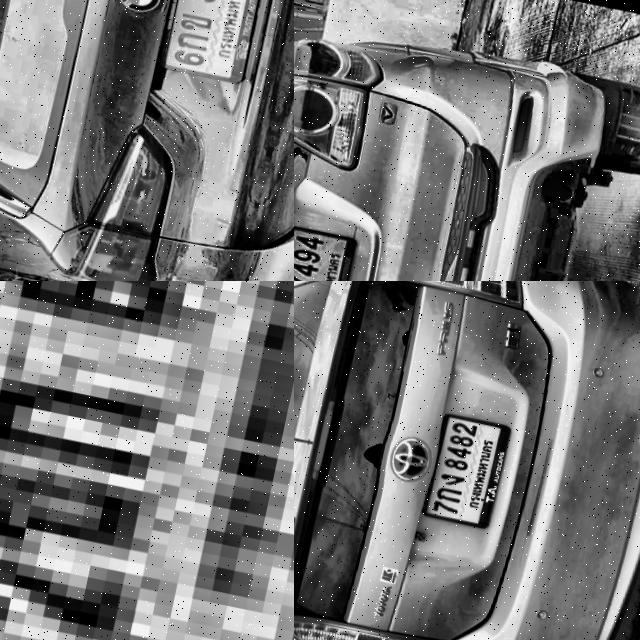license-plate: (0, 281, 294, 640), (418, 409, 515, 531), (154, 0, 271, 86), (294, 222, 361, 281)
